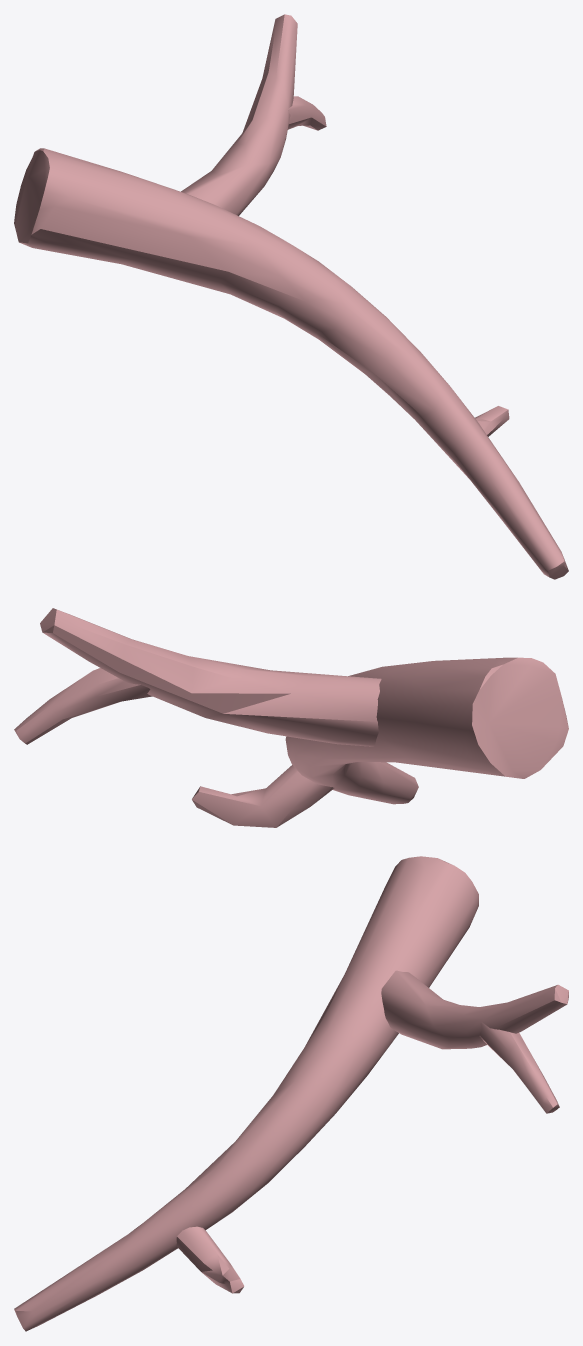
The model's file is fma68226_cx164.glb.
3 renders of one model, top to bottom at view 1: azimuth 30°, elevation 25°; view 2: azimuth 150°, elevation 25°; view 3: azimuth 270°, elevation 25°, orthographic. The views are drawn at different scales.
Parts seen in each view (by area): view 1: FMA68226_CX164; view 2: FMA68226_CX164; view 3: FMA68226_CX164.
Part boxes in pixels (x1=…): FMA68226_CX164: x1=14, y1=14, x2=568, y2=579; FMA68226_CX164: x1=14, y1=608, x2=568, y2=827; FMA68226_CX164: x1=14, y1=856, x2=568, y2=1331.
Size of the model in its own units: 0.0401 by 0.0353 by 0.0511.
